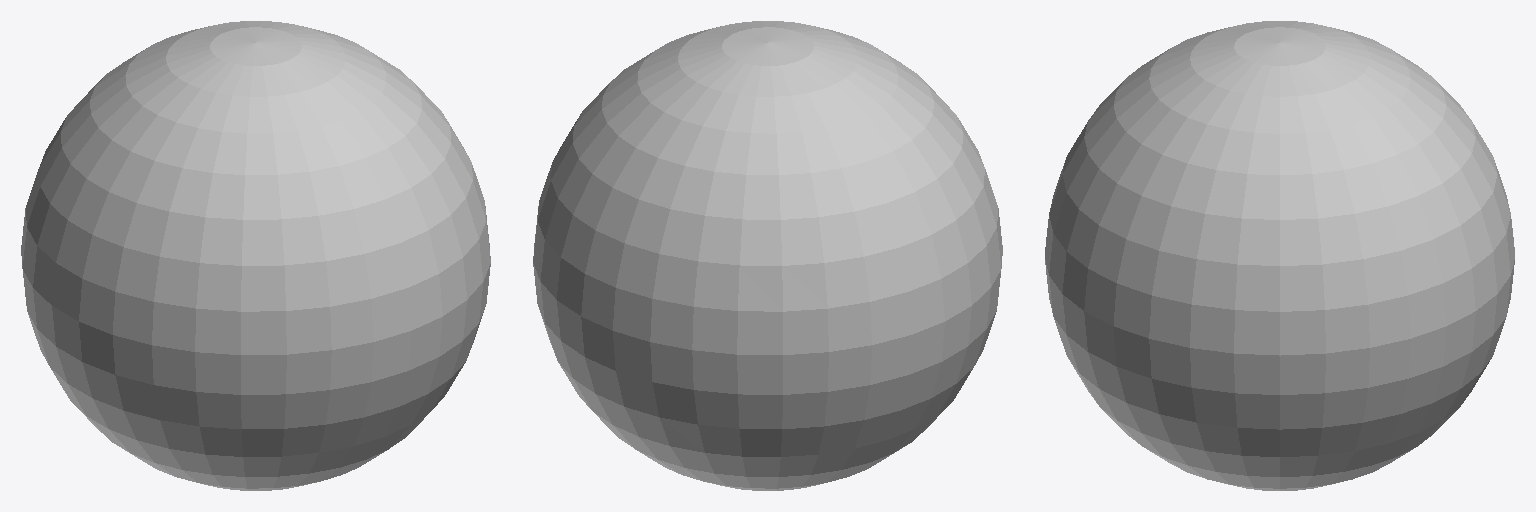
File: point.obj
The picture shows the model from 3 angles: view 1: azimuth 30°, elevation 25°; view 2: azimuth 150°, elevation 25°; view 3: azimuth 270°, elevation 25°; orthographic projection.
Visible parts, largest first — view 1: Sphere; view 2: Sphere; view 3: Sphere.
Boxes of the visible parts, box(x1,y1,x2,y2) form: Sphere: box(21, 21, 490, 490); Sphere: box(533, 21, 1002, 490); Sphere: box(1045, 21, 1514, 490).
Bounding box in the file's own units: 0.0357 × 0.0357 × 0.0357.